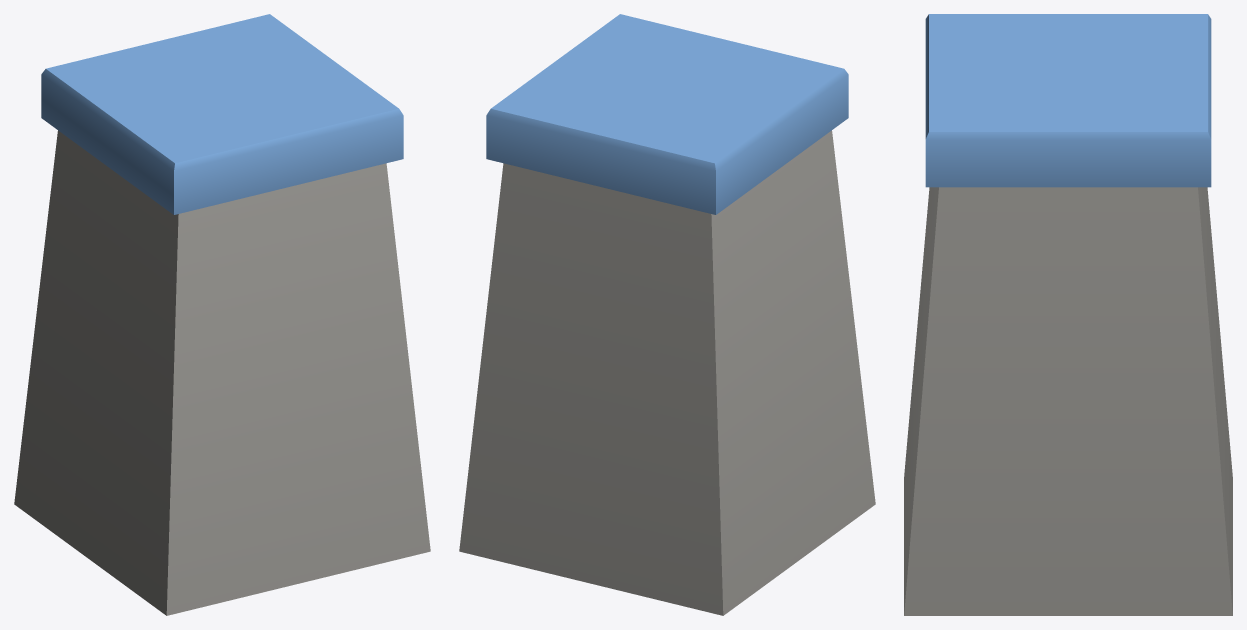
Rendered from gawall.glb.
3 views of the same model, side by side, from view 1: azimuth 30°, elevation 25°; view 2: azimuth 150°, elevation 25°; view 3: azimuth 270°, elevation 25° (orthographic). The views are drawn at different scales.
Parts seen in each view (by area): view 1: Hull; view 2: Hull; view 3: Hull.
Part boxes in pixels (x1,y1,x2,y2): Hull: [14, 14, 430, 615]; Hull: [459, 14, 875, 615]; Hull: [904, 14, 1232, 615].
Bounding box in the file's own units: 0.828 × 1.32 × 0.828.
